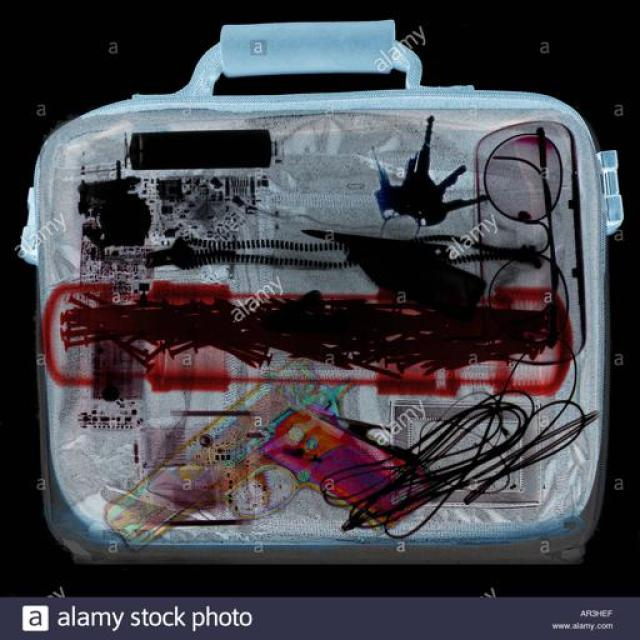pistol: (101, 354, 435, 553)
